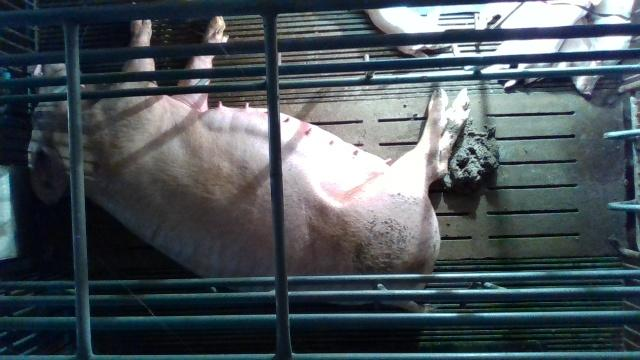piglet: (481, 0, 602, 92), (523, 16, 605, 98), (364, 5, 457, 58), (591, 0, 635, 52)
sow-sleep-lactate: (26, 0, 472, 313)
